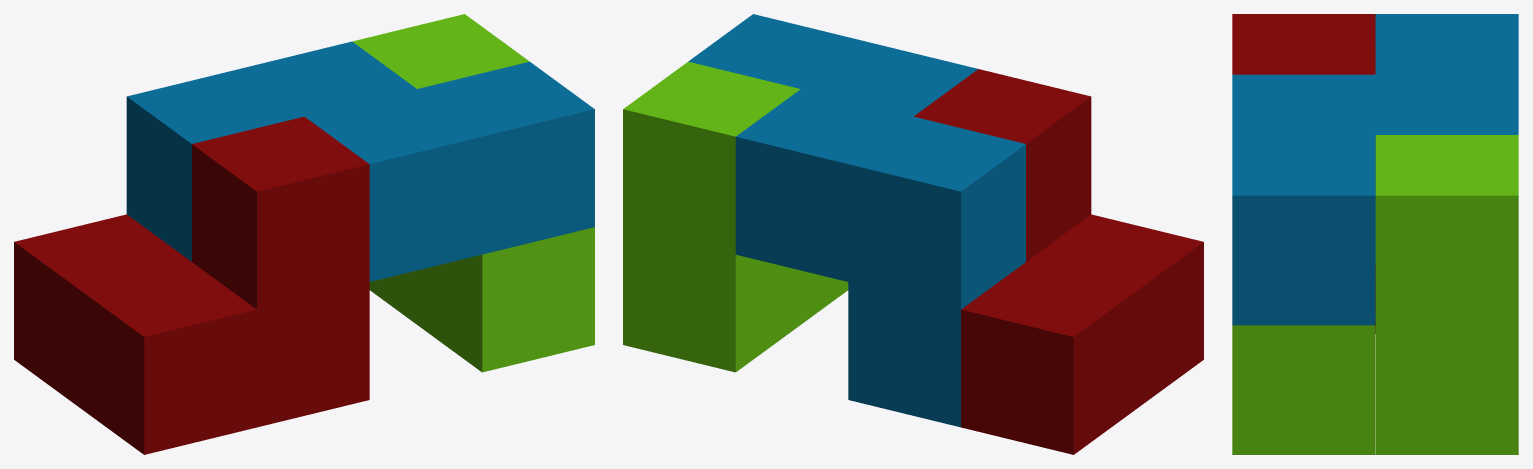
3 renders of one model, left to right at view 1: azimuth 30°, elevation 25°; view 2: azimuth 150°, elevation 25°; view 3: azimuth 270°, elevation 25°, orthographic. The views are drawn at different scales.
Parts seen in each view (by area): view 1: mergedBlocks(Clone); view 2: mergedBlocks(Clone); view 3: mergedBlocks(Clone).
Part boxes in pixels (x1,y1,x2,y2): mergedBlocks(Clone): (14,14,594,454); mergedBlocks(Clone): (623,14,1203,454); mergedBlocks(Clone): (1232,14,1518,454).
Size of the model in its own units: 4 by 2 by 2.
3 materials, 3 textured.
